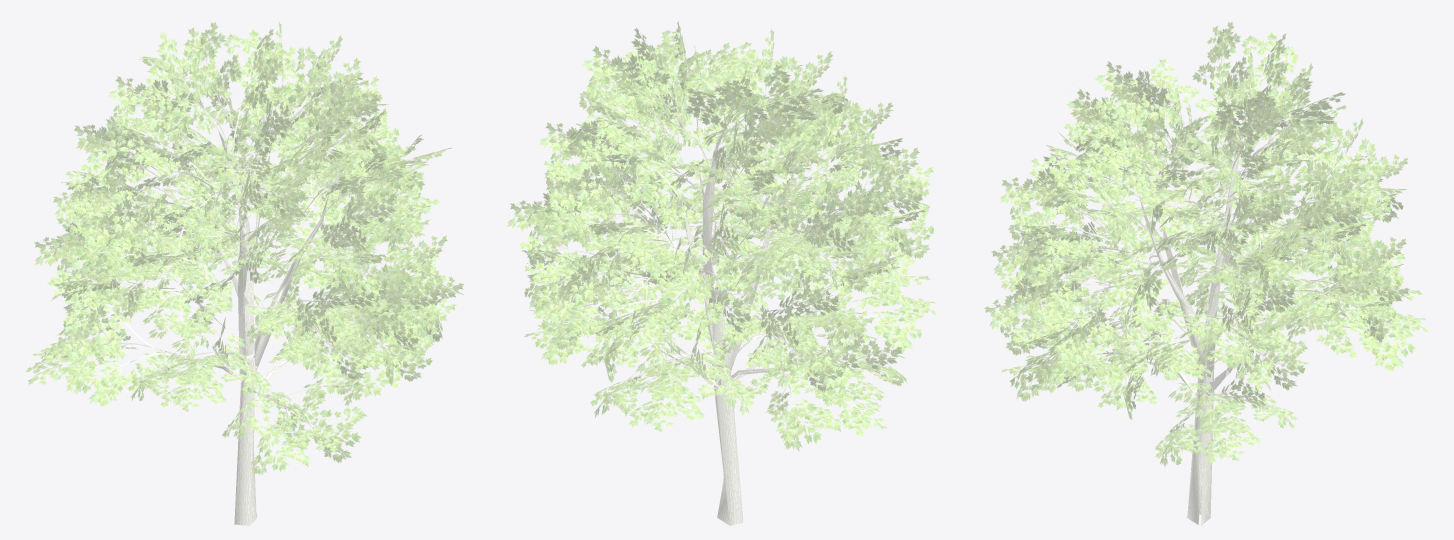
Rendered from Tree.glb.
The picture shows the model from 3 angles, left to right: view 1: azimuth 30°, elevation 25°; view 2: azimuth 150°, elevation 25°; view 3: azimuth 270°, elevation 25°; orthographic projection. The views are drawn at different scales.
Visible parts, largest first — view 1: Tree; view 2: Tree; view 3: Tree.
Part boxes in pixels (box(x1,y1,x2,y2)): Tree: box(25, 22, 464, 525); Tree: box(507, 20, 936, 525); Tree: box(984, 22, 1428, 525).
Bounding box in the file's own units: 5.79 × 6.83 × 6.03.
2 materials, 2 textured.
